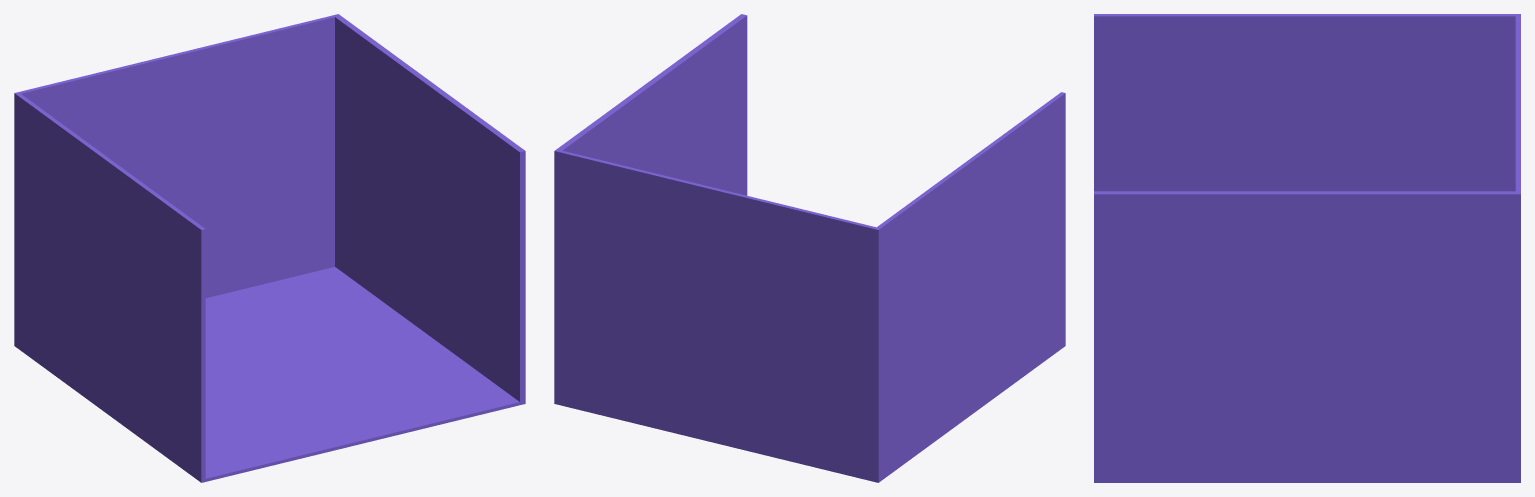
Rendered from Paredes.fbx.
3 views of the same model, side by side, from view 1: azimuth 30°, elevation 25°; view 2: azimuth 150°, elevation 25°; view 3: azimuth 270°, elevation 25° (orthographic). The views are drawn at different scales.
Visible parts, largest first — view 1: Cube; view 2: Cube; view 3: Cube.
Part boxes in pixels (x1,y1,x2,y2): Cube: [14, 14, 525, 482]; Cube: [554, 14, 1065, 482]; Cube: [1094, 14, 1520, 482].
Bounding box in the file's own units: 8 × 5.96 × 8.
